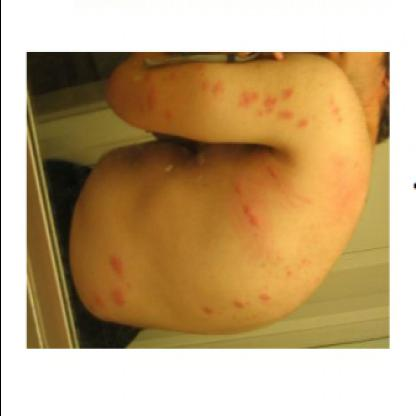Bed Bug: (240, 75, 296, 125), (331, 145, 357, 214), (195, 68, 227, 106), (275, 256, 311, 284), (139, 70, 157, 122), (326, 93, 350, 127), (244, 205, 268, 234), (160, 98, 180, 128), (194, 295, 216, 321), (266, 153, 284, 183), (89, 284, 104, 318), (224, 180, 250, 198), (108, 251, 124, 277), (110, 289, 128, 312), (298, 112, 312, 140), (257, 289, 273, 307), (166, 66, 182, 84), (233, 297, 247, 315)
